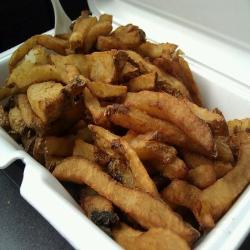fries: (68, 93, 241, 232)
